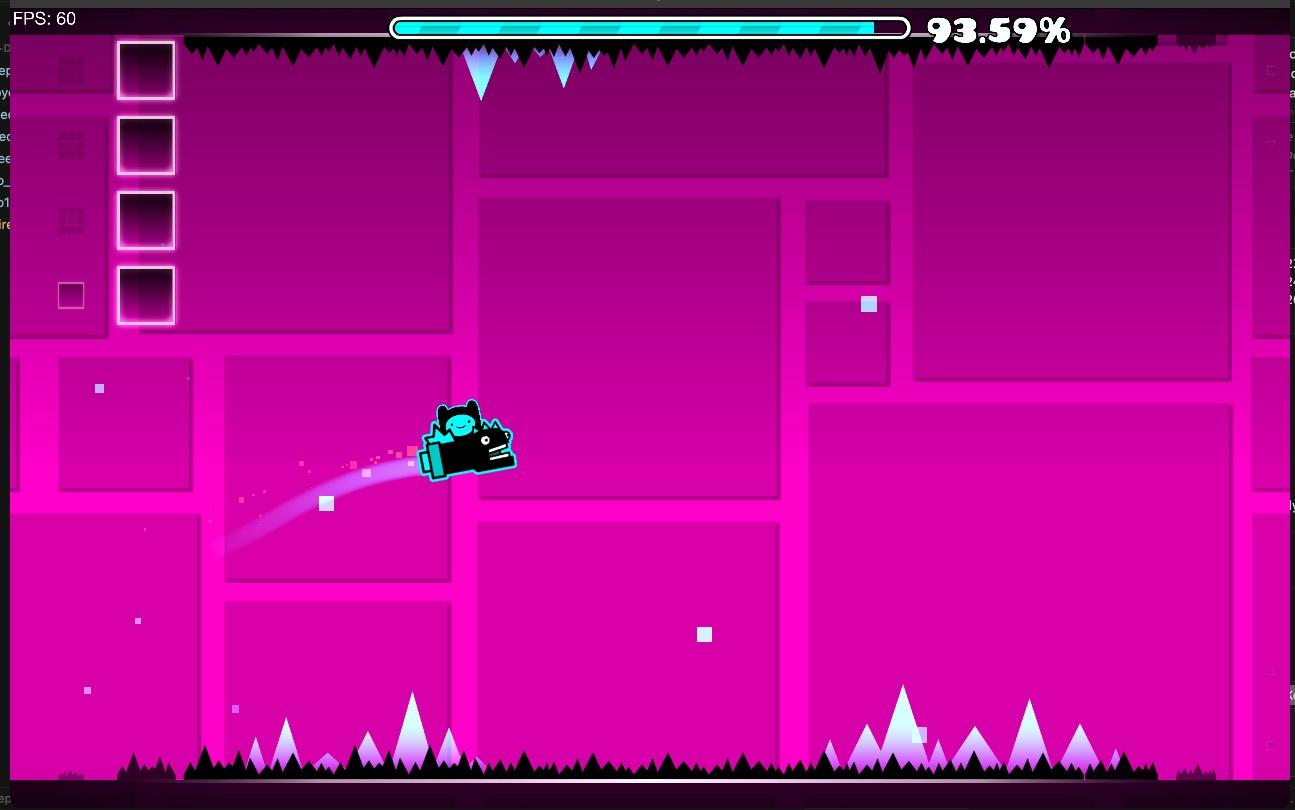player: (418, 400, 515, 479)
spike: (184, 693, 633, 778), (809, 689, 1157, 777), (793, 36, 1156, 67), (460, 47, 637, 98), (634, 755, 691, 777), (642, 43, 700, 62), (260, 40, 314, 58), (337, 40, 379, 63), (719, 46, 772, 58)
